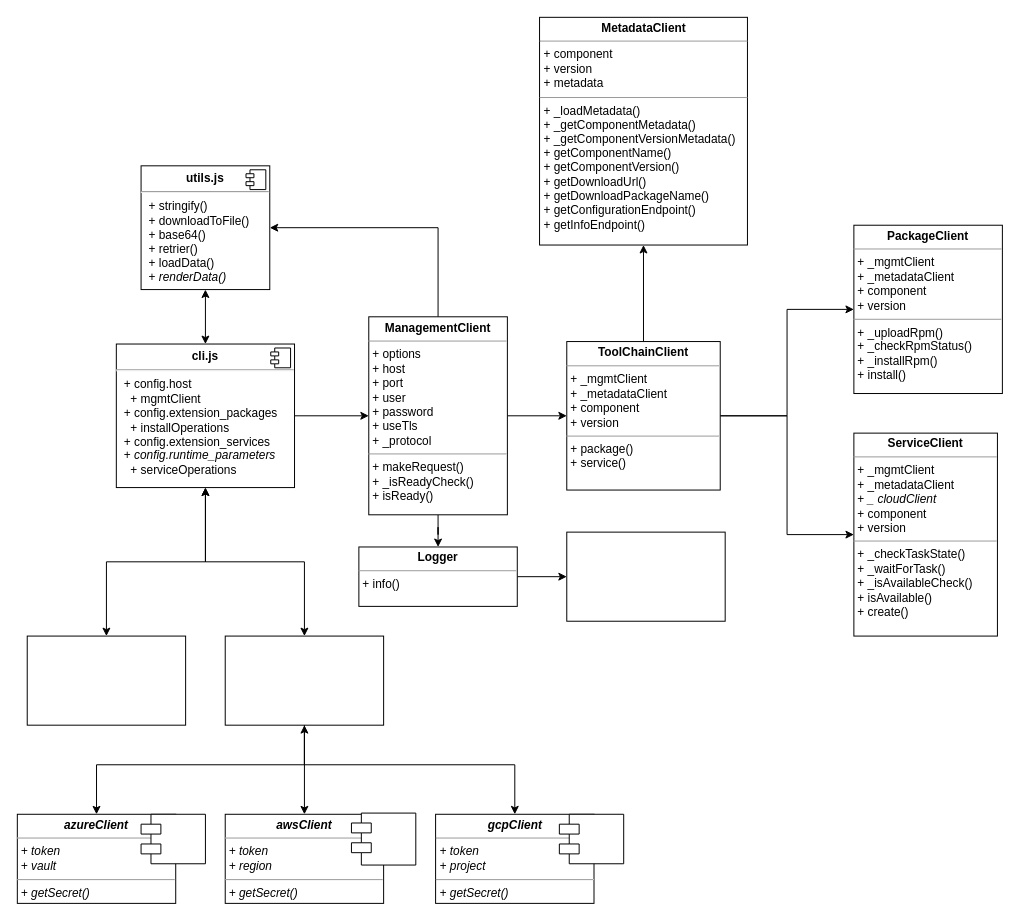
This 1020x921 diagram has some shape labels left out. Each missing label, with the centre of its shape:
"cloudFactory + _instanceClient + instanceMetadata + createCloud()" goes at point 304,680.
"instanceClient + environment + getInstanceMetadata() + getToken()" goes at point 106,680.
"LoggerInstance + instance + getInstance()" goes at point 645,576.
